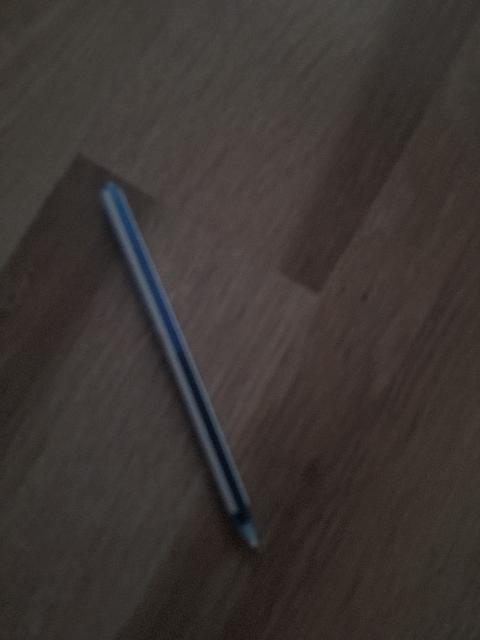writing_tool: (93, 177, 273, 560)
